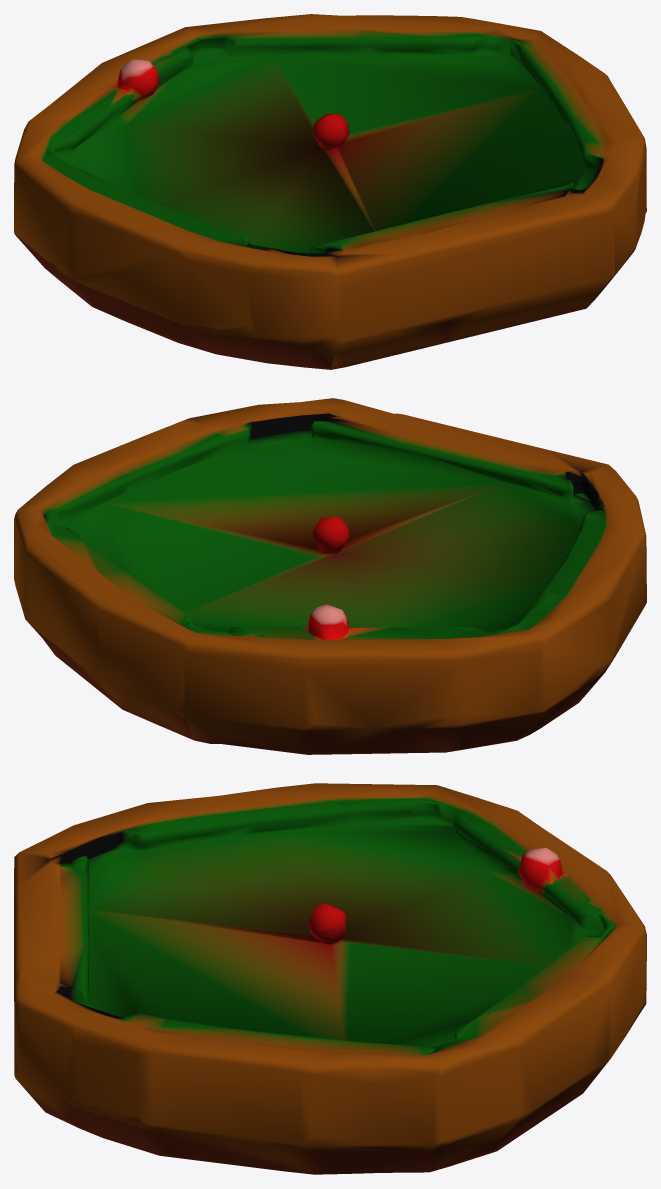
File: gen3d-billiard-lod1.glb
The picture shows the model from 3 angles, top to bottom: view 1: azimuth 30°, elevation 25°; view 2: azimuth 150°, elevation 25°; view 3: azimuth 270°, elevation 25°; orthographic projection. The views are drawn at different scales.
Parts seen in each view (by area): view 1: part_0; view 2: part_0; view 3: part_0.
Part boxes in pixels (x1=…): part_0: x1=14, y1=14, x2=646, y2=369; part_0: x1=14, y1=398, x2=646, y2=754; part_0: x1=14, y1=783, x2=646, y2=1174.
Size of the model in its own units: 4.15 by 0.9933 by 3.88.
